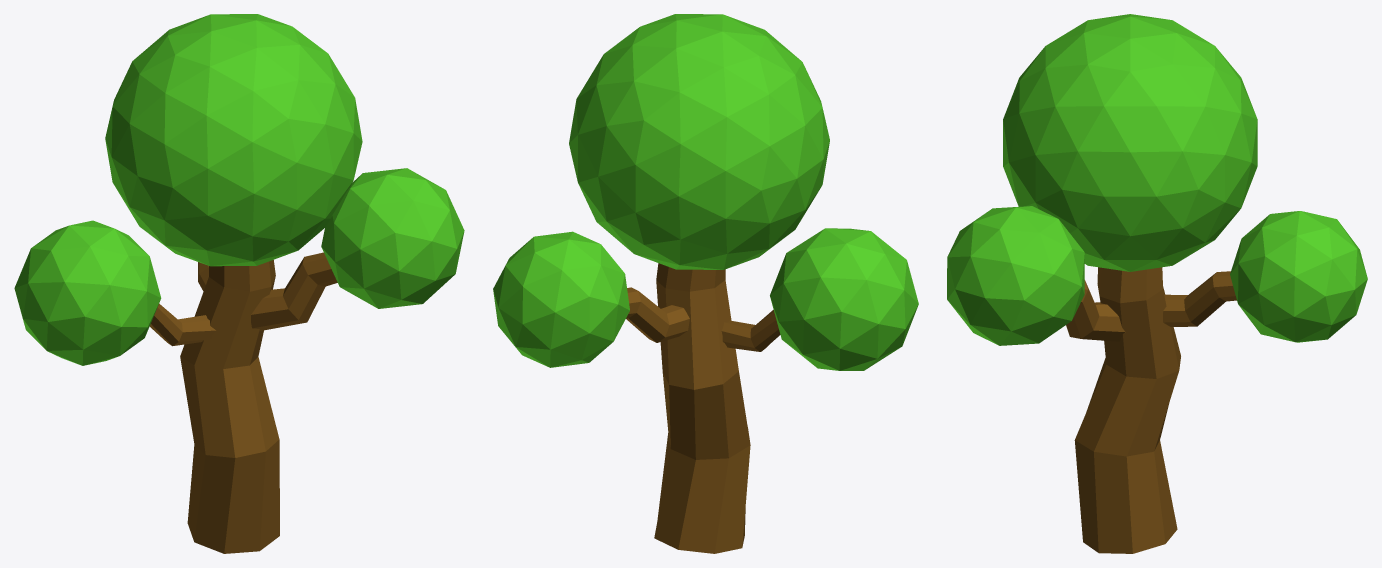
The model's file is Tree-01.fbx.
The picture shows the model from 3 angles, left to right: view 1: azimuth 30°, elevation 25°; view 2: azimuth 150°, elevation 25°; view 3: azimuth 270°, elevation 25°; orthographic projection.
Parts seen in each view (by area): view 1: Sphere_5, Sweep_5, Sphere_6, Sphere_7, Sweep_7, Sweep_6; view 2: Sphere_5, Sweep_5, Sphere_6, Sphere_8, Sweep_8, Sweep_6; view 3: Sphere_5, Sweep_5, Sphere_7, Sphere_8, Sweep_8, Sweep_7.
Boxes of the visible parts, <box> form: Sphere_5: <box>105,14,362,266</box>; Sweep_5: <box>180,260,279,553</box>; Sphere_6: <box>14,220,161,365</box>; Sphere_7: <box>321,168,464,308</box>; Sweep_7: <box>251,252,337,330</box>; Sweep_6: <box>149,303,216,346</box>; Sphere_5: <box>569,14,829,269</box>; Sweep_5: <box>654,263,750,553</box>; Sphere_6: <box>770,228,918,370</box>; Sphere_8: <box>493,231,629,367</box>; Sweep_8: <box>626,287,689,342</box>; Sweep_6: <box>721,310,780,351</box>; Sphere_5: <box>1003,14,1257,271</box>; Sweep_5: <box>1074,267,1180,553</box>; Sphere_7: <box>947,206,1084,345</box>; Sphere_8: <box>1230,211,1367,342</box>; Sweep_8: <box>1163,271,1236,326</box>; Sweep_7: <box>1066,280,1125,341</box>.
Bounding box in the file's own units: 589 × 772 × 573.
